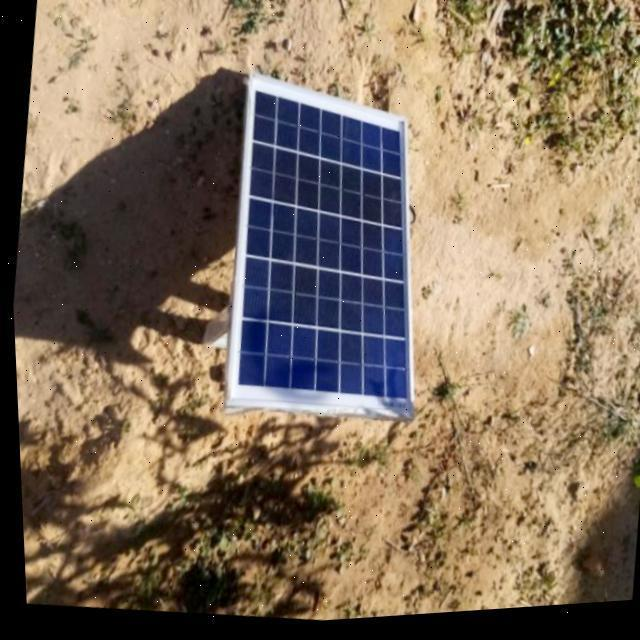Normal Solar Panel: (208, 63, 450, 430)
